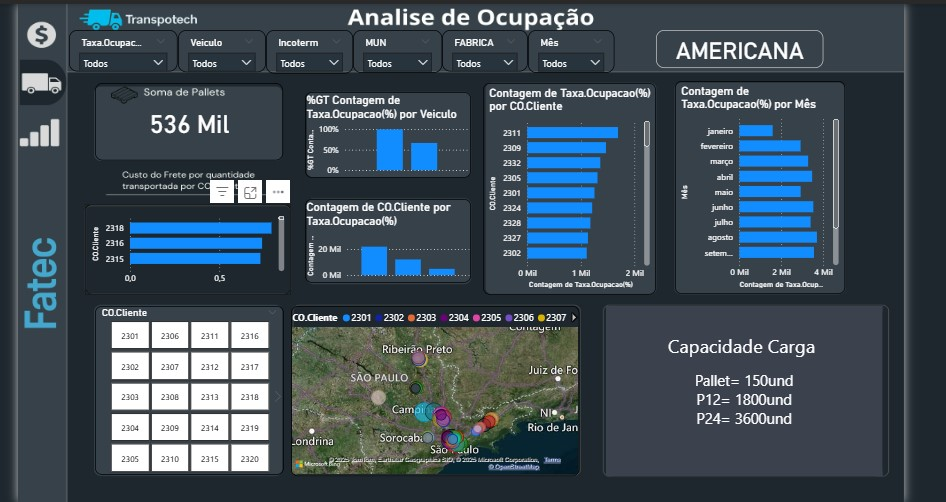

What the dashboard file says about the page in this screenshot:
{"tool":"powerbi","page":{"name":"OCUPAÇÃO","canvas":[1280,720],"ordinal":1},"visuals":[{"type":"slicer","fields":{"Values":["Rotas_formatado (1).Veiculo"]},"box":[231,38,127,61],"z":0,"group":"g1"},{"type":"tableEx","fields":{"Values":["CLIENTES_COM_ENDEREÇOS_COMPLETO.Foto_ARARAQUARA","CLIENTES_COM_ENDEREÇOS_COMPLETO.Foto_ITU","CLIENTES_COM_ENDEREÇOS_COMPLETO.Foto_JACAREI"]},"box":[849.9,436.8,399.6,245.5],"z":0},{"type":"slicer","fields":{"Values":["Rotas_formatado (1).Incoterm"]},"box":[358,38,126,63],"z":1000,"group":"g1"},{"type":"map","fields":{"Category":["CLIENTES_COM_ENDEREÇOS_COMPLETO.CEP"],"Size":["Sum(Rotas_formatado (1).Qtd.Transp)"],"Series":["CLIENTES_COM_ENDEREÇOS_COMPLETO.CO.Cliente"]},"box":[394.5,436.8,416.5,245.5],"z":1000},{"type":"slicer","fields":{"Values":["Fabricas.NO_MUN"]},"box":[613,38,124,60],"z":2000,"group":"g1"},{"type":"clusteredBarChart","fields":{"Category":["Rotas_formatado (1).CO.Cliente"],"Y":["CountNonNull(Rotas_formatado (1).Taxa.Ocupacao(%))"]},"box":[673,114,250,306],"z":2000},{"type":"clusteredBarChart","fields":{"Category":["Rotas_formatado (1).Dt.Entrega.Variation.Hierarquia de datas.Mês"],"Y":["CountNonNull(Rotas_formatado (1).Taxa.Ocupacao(%))"]},"box":[949.8,111.7,245.5,308.1],"z":3000},{"type":"clusteredColumnChart","fields":{"Y":["Sum(Rotas_formatado (1).Taxa.Ocupacao(%))"],"Category":["Rotas_formatado (1).Veiculo"]},"box":[415,127,240,124],"z":4000},{"type":"clusteredColumnChart","fields":{"Category":["Rotas_formatado (1).Taxa.Ocupacao(%)"],"Y":["CountNonNull(Rotas_formatado (1).CO.Cliente)"]},"box":[415,282,240,121],"z":5000},{"type":"slicer","fields":{"Values":["Rotas_formatado (1).CO.Cliente"]},"box":[111.7,436.8,272.6,243.8],"z":6000},{"type":"barChart","fields":{"Category":["Rotas_formatado (1).CO.Cliente"],"Y":["Avg(Rotas_formatado (1).Valor.Por.Unidade)"]},"box":[97,289,298,131],"z":7000},{"type":"slicer","fields":{"Values":["Rotas_formatado (1).Taxa.Ocupacao(%)"]},"box":[74,38,157,60],"z":8000},{"type":"group","id":"g1","title":"Grupo 1","box":[231,38,631,63],"z":9000},{"type":"card","fields":{"Values":["Min(CLIENTES_COM_ENDEREÇOS_COMPLETO.MUN)"]},"box":[923,38,242,55],"z":10000},{"type":"card","fields":{"Values":["Sum(Rotas_formatado (1).Pallets_Transportados)"]},"box":[112,114,272,112],"z":11000},{"type":"slicer","fields":{"Values":["CLIENTES_COM_ENDEREÇOS_COMPLETO.MUN"]},"box":[484,38,129,62],"z":12000,"group":"g1"},{"type":"actionButton","box":[0,151,74,65],"z":12000},{"type":"slicer","fields":{"Values":["Rotas_formatado (1).Dt.Pedido.Variation.Hierarquia de datas.Mês"]},"box":[737,38,125,62],"z":13000,"group":"g1"},{"type":"actionButton","box":[0,10,74,60],"z":14000},{"type":"textbox","box":[849.9,436.8,399.6,245.5],"z":14001}]}

Visuals, with their boxes on the page's 1280x720 design canvas (x1, y1, x2, y2). These are canvas units, not pixel positions in the 946x502 screenshot, which may show the page scaled, cropped or inside an application window:
slicer - Rotas_formatado (1).Veiculo: [x1=231, y1=38, x2=358, y2=99]
tableEx - CLIENTES_COM_ENDEREÇOS_COMPLETO.Foto_ARARAQUARA x CLIENTES_COM_ENDEREÇOS_COMPLETO.Foto_ITU: [x1=850, y1=437, x2=1250, y2=682]
slicer - Rotas_formatado (1).Incoterm: [x1=358, y1=38, x2=484, y2=101]
map - CLIENTES_COM_ENDEREÇOS_COMPLETO.CEP x Sum(Rotas_formatado (1).Qtd.Transp): [x1=394, y1=437, x2=811, y2=682]
slicer - Fabricas.NO_MUN: [x1=613, y1=38, x2=737, y2=98]
clusteredBarChart - Rotas_formatado (1).CO.Cliente x CountNonNull(Rotas_formatado (1).Taxa.Ocupacao(%)): [x1=673, y1=114, x2=923, y2=420]
clusteredBarChart - Rotas_formatado (1).Dt.Entrega.Variation.Hierarquia de datas.Mês x CountNonNull(Rotas_formatado (1).Taxa.Ocupacao(%)): [x1=950, y1=112, x2=1195, y2=420]
clusteredColumnChart - Sum(Rotas_formatado (1).Taxa.Ocupacao(%)) x Rotas_formatado (1).Veiculo: [x1=415, y1=127, x2=655, y2=251]
clusteredColumnChart - Rotas_formatado (1).Taxa.Ocupacao(%) x CountNonNull(Rotas_formatado (1).CO.Cliente): [x1=415, y1=282, x2=655, y2=403]
slicer - Rotas_formatado (1).CO.Cliente: [x1=112, y1=437, x2=384, y2=681]
barChart - Rotas_formatado (1).CO.Cliente x Avg(Rotas_formatado (1).Valor.Por.Unidade): [x1=97, y1=289, x2=395, y2=420]
slicer - Rotas_formatado (1).Taxa.Ocupacao(%): [x1=74, y1=38, x2=231, y2=98]
"Grupo 1" group: [x1=231, y1=38, x2=862, y2=101]
card - Min(CLIENTES_COM_ENDEREÇOS_COMPLETO.MUN): [x1=923, y1=38, x2=1165, y2=93]
card - Sum(Rotas_formatado (1).Pallets_Transportados): [x1=112, y1=114, x2=384, y2=226]
slicer - CLIENTES_COM_ENDEREÇOS_COMPLETO.MUN: [x1=484, y1=38, x2=613, y2=100]
actionButton: [x1=0, y1=151, x2=74, y2=216]
slicer - Rotas_formatado (1).Dt.Pedido.Variation.Hierarquia de datas.Mês: [x1=737, y1=38, x2=862, y2=100]
actionButton: [x1=0, y1=10, x2=74, y2=70]
textbox: [x1=850, y1=437, x2=1250, y2=682]
